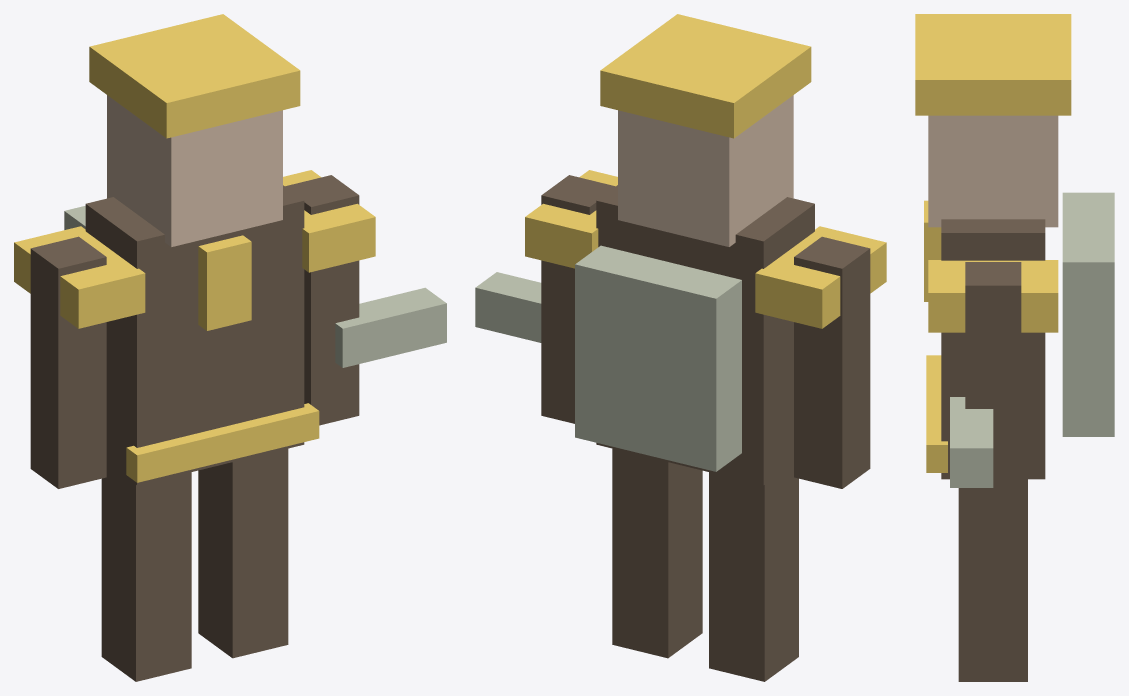
File: 10_ilyra_nullborne_engineer_at_vendor.glb
3 views of the same model, side by side, from view 1: azimuth 30°, elevation 25°; view 2: azimuth 150°, elevation 25°; view 3: azimuth 270°, elevation 25° (orthographic).
Parts seen in each view (by area): view 1: Ilyra Nullborne, Engineer at Vendor; view 2: Ilyra Nullborne, Engineer at Vendor; view 3: Ilyra Nullborne, Engineer at Vendor.
Boxes of the visible parts, x1,y1,x2,y2 form: Ilyra Nullborne, Engineer at Vendor: [14, 14, 446, 681]; Ilyra Nullborne, Engineer at Vendor: [475, 14, 886, 681]; Ilyra Nullborne, Engineer at Vendor: [915, 14, 1114, 681].
Bounding box in the file's own units: 1.07 × 1.59 × 0.481.
